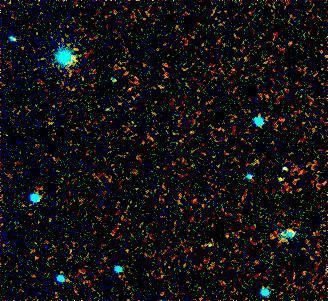star: (262, 166, 292, 196)
